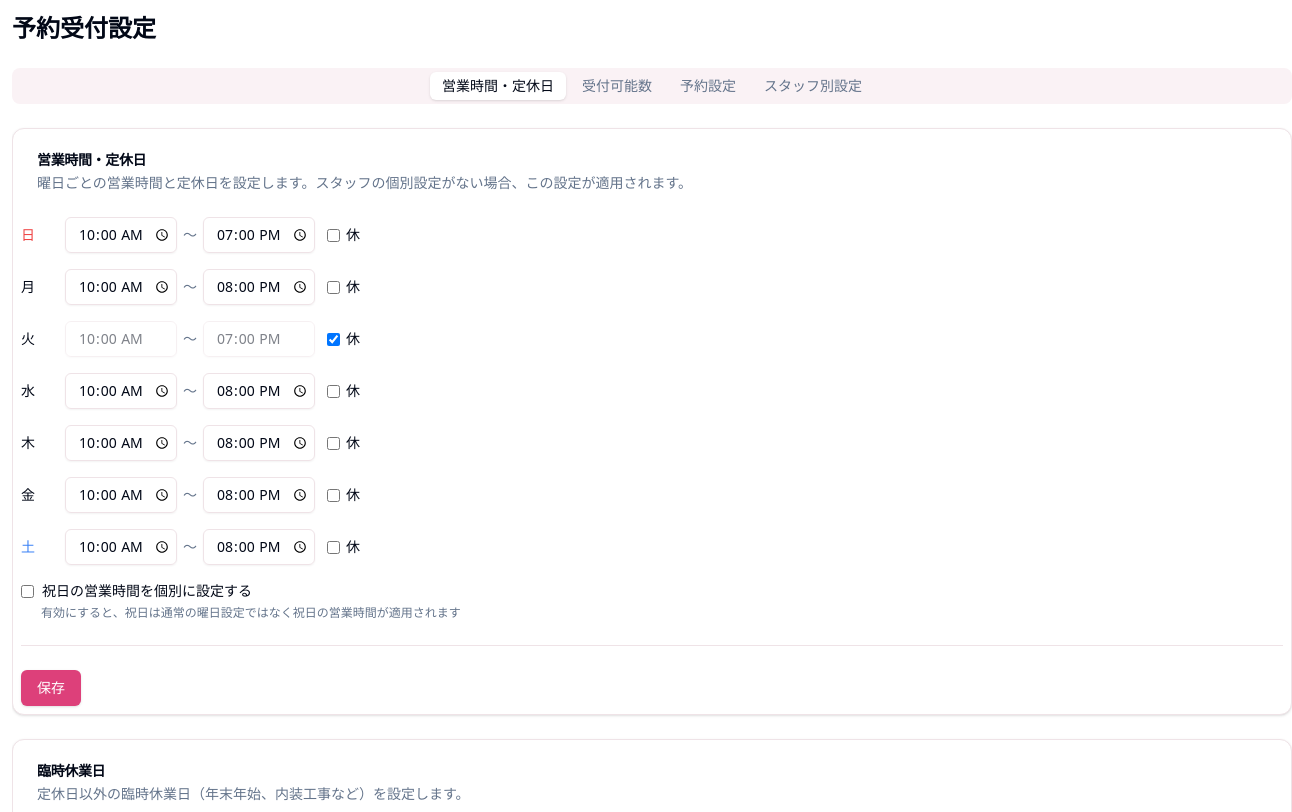
Scenario: ReservationSettings (予約受付設定) › 受付可能数: closed days show 定休日; numbers are saved per weekday, empty = default / no limit
Click the tab "受付可能数" at (617, 86), box 570,72 -> 664,100
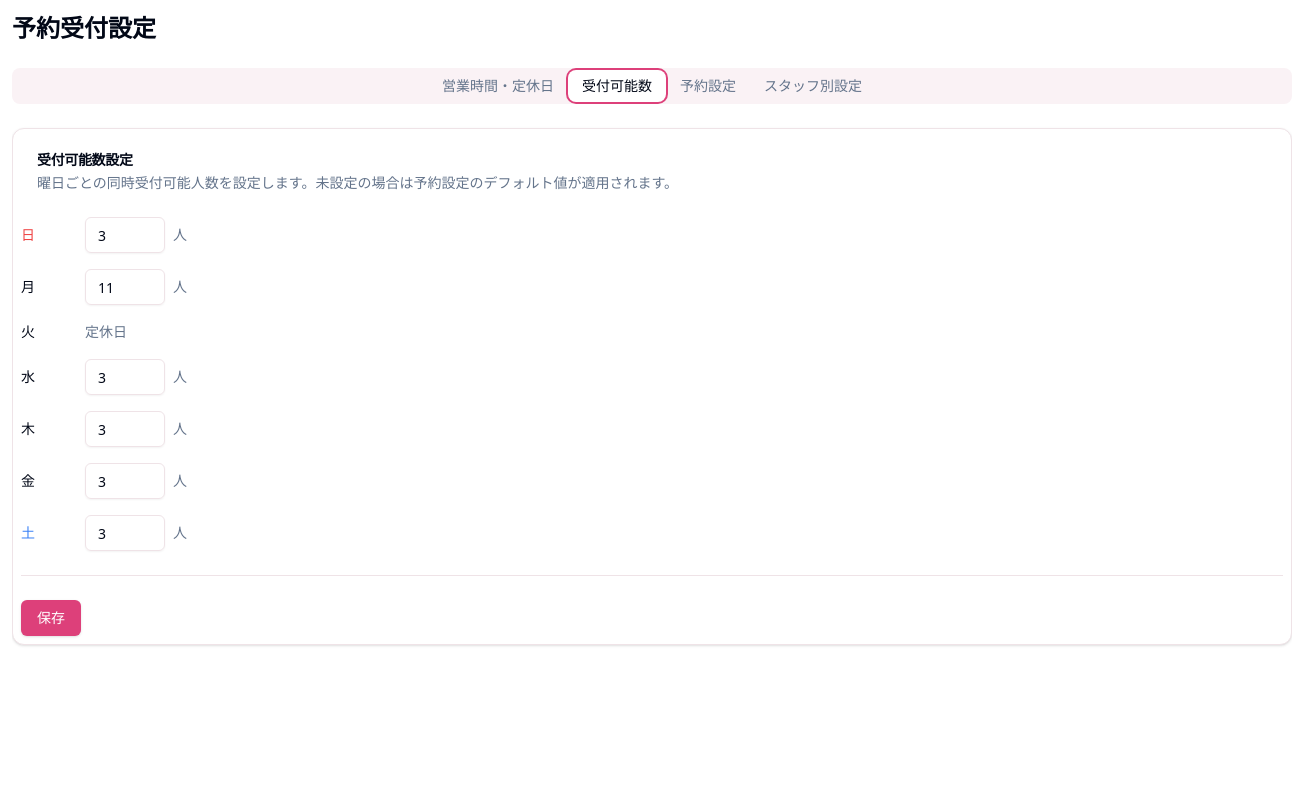
Expected: the text "定休日" is shown, 85,322 -> 127,342
Expected: the number field named "月 受付可能数" holds "11", 85,269 -> 165,305
Expected: the number field named "水 受付可能数" holds "3"
Replace the text in the number field named "水 受付可能数" with "8" at (125, 377), box 85,359 -> 165,395
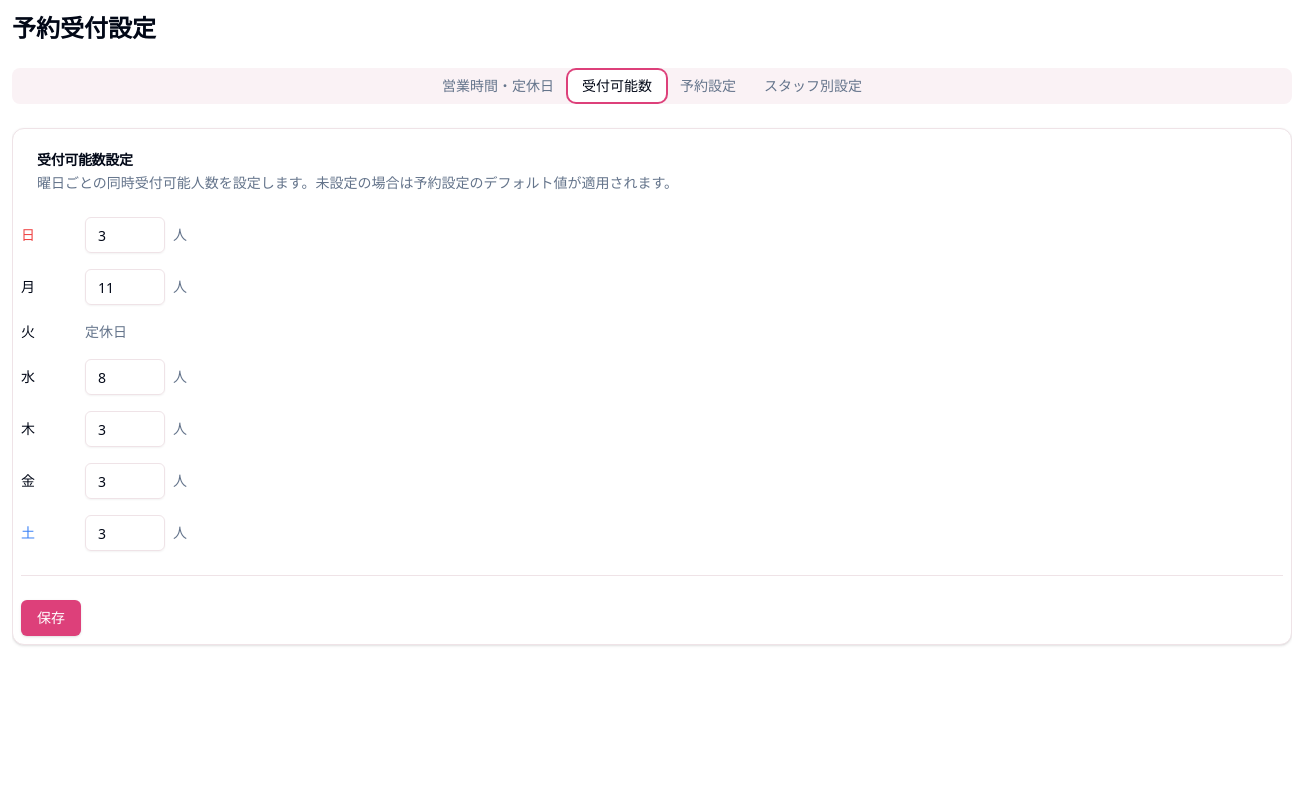
Clear the number field named "月 受付可能数" at (125, 287), box 85,269 -> 165,305
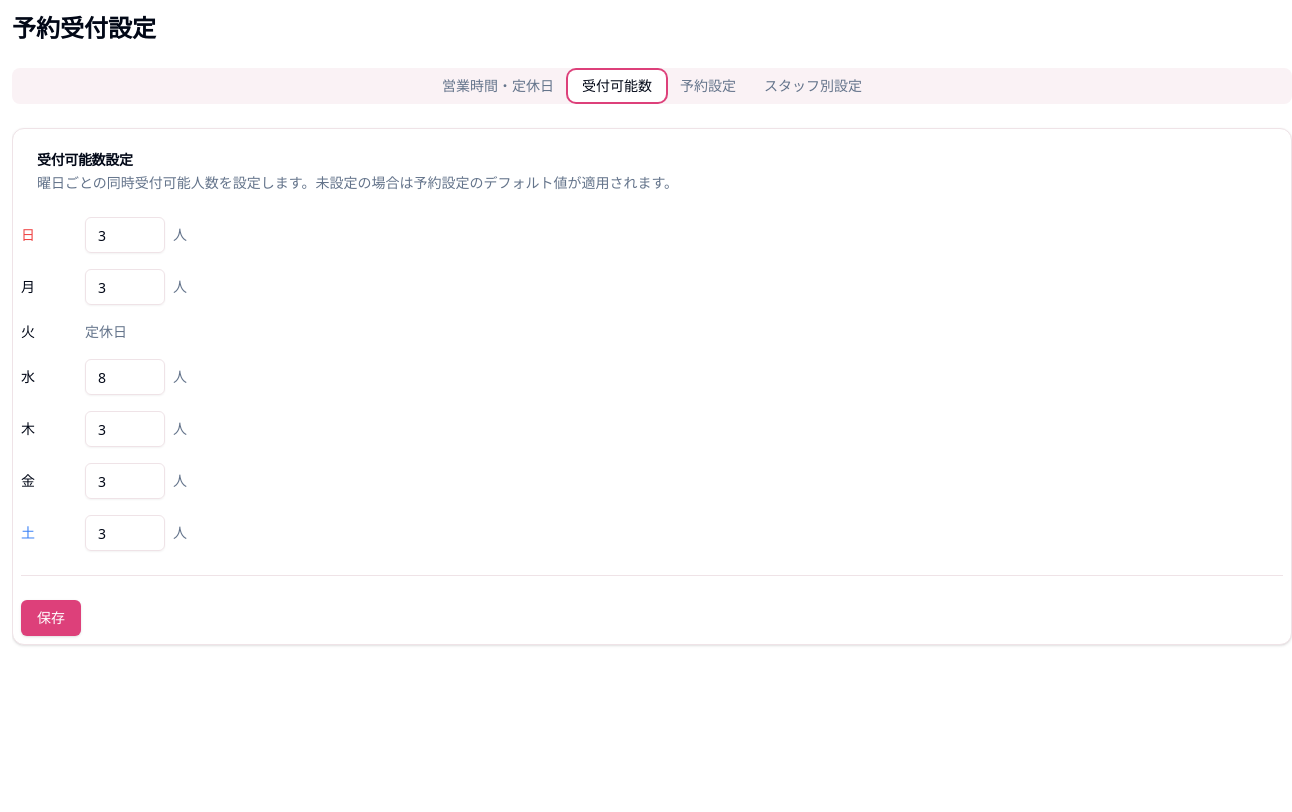
Click the button "保存" at (51, 618), box 21,600 -> 81,636
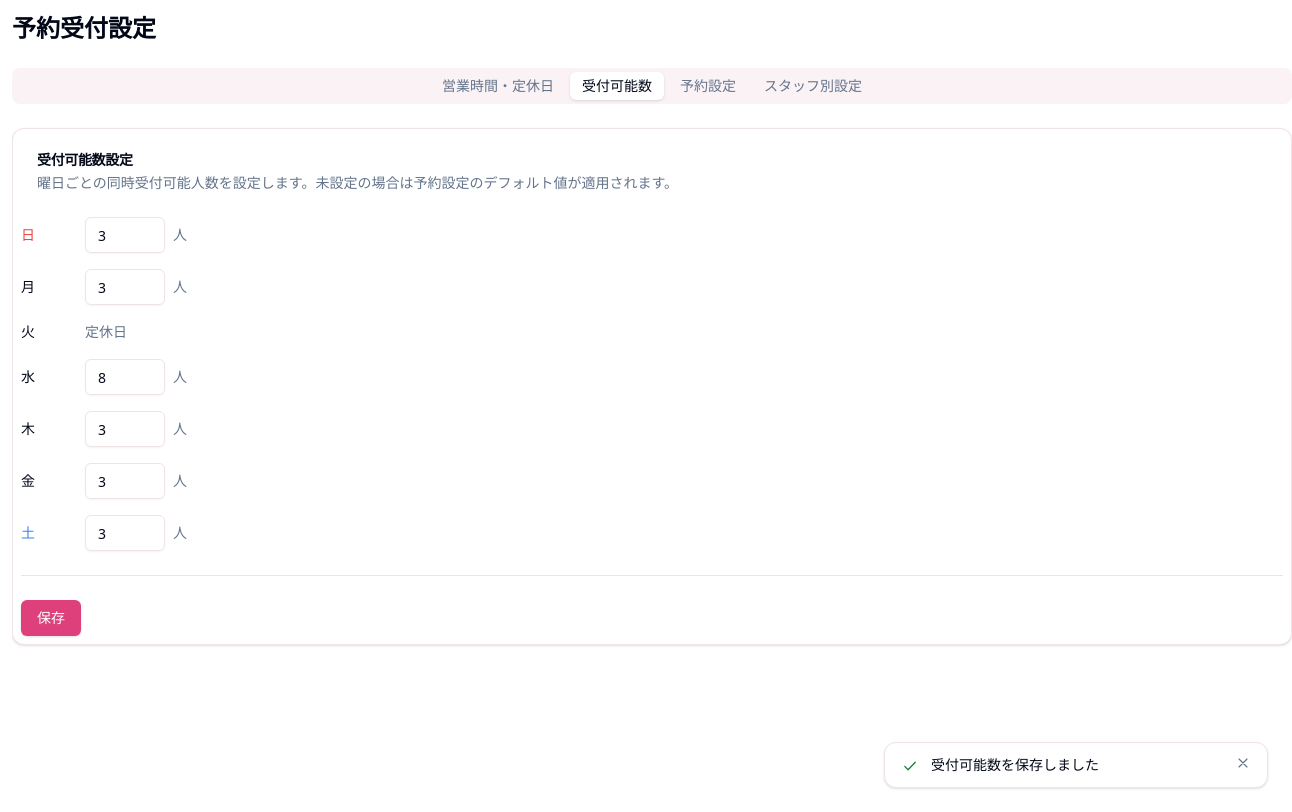
Expected: the text "受付可能数を保存しました" is shown, 931,755 -> 1099,774
